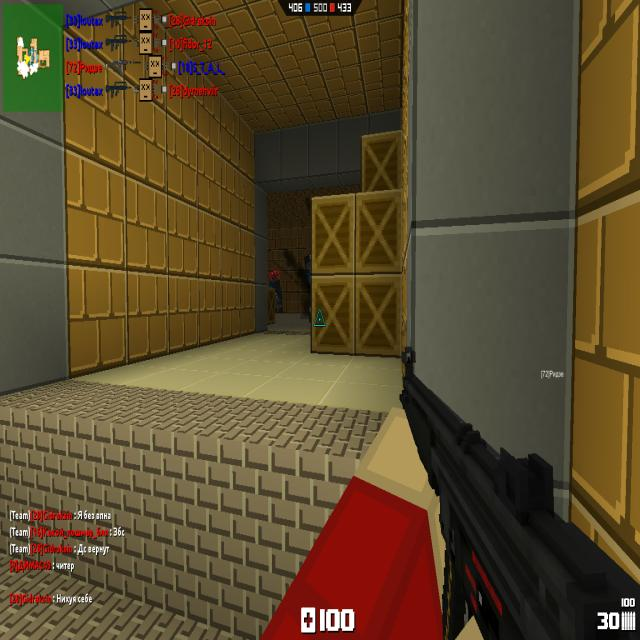enemy: (269, 268, 283, 313), (304, 254, 311, 296)
